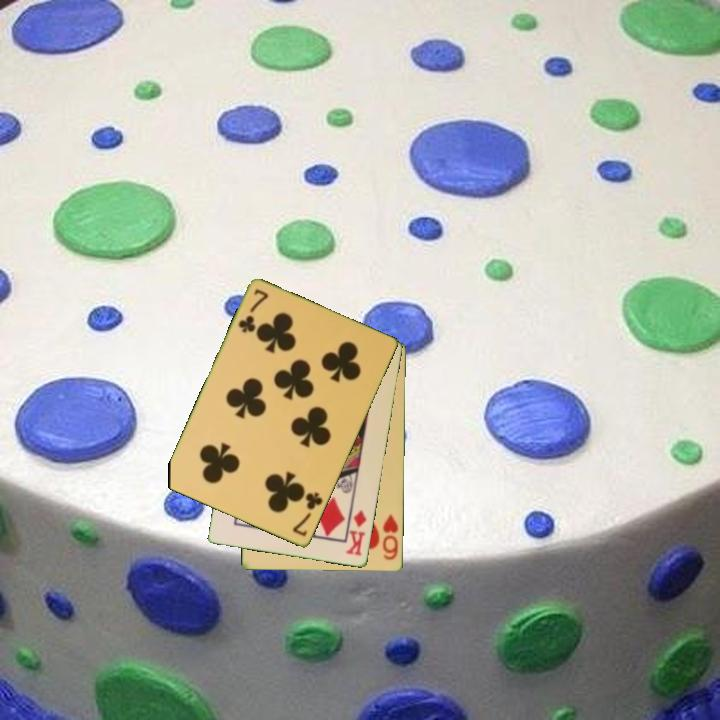6h: (380, 511, 401, 563)
7c: (289, 489, 326, 540), (235, 286, 271, 336)
Kd: (342, 507, 370, 559)
